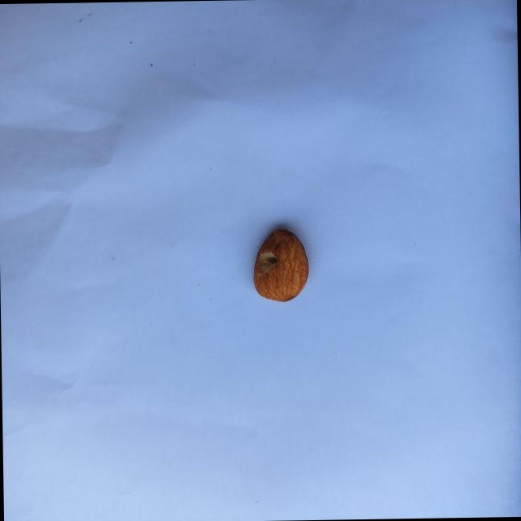grade3: (249, 225, 311, 306)
